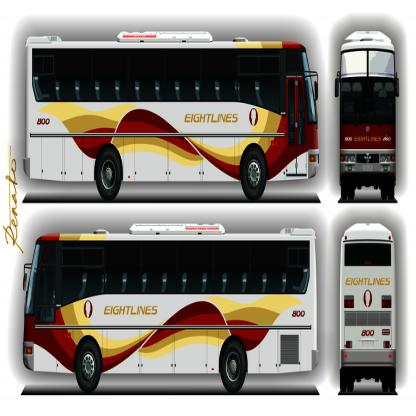Bus: (24, 26, 319, 204), (22, 222, 318, 394), (334, 30, 399, 202), (340, 223, 396, 393)
